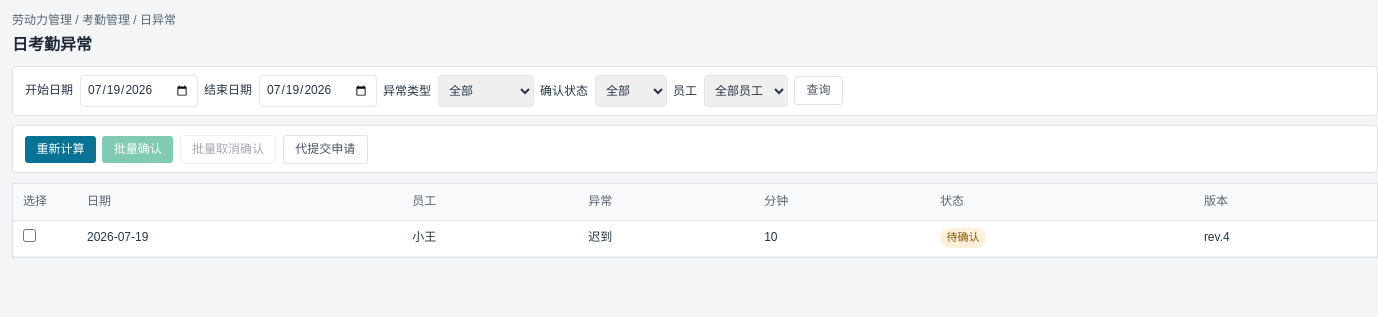
Test: DailyAttendancePage revision transitions › forces a refresh after a stale 409 and replaces the stale revision
Check: the text "小王" is shown, box x1=402 y1=220 x2=578 y2=256
What coordinates should you click on to do the following:
click the checkbox named "选择 小王 迟到"
I would click on:
 (30, 235)
Its box is x1=23 y1=229 x2=36 y2=242.
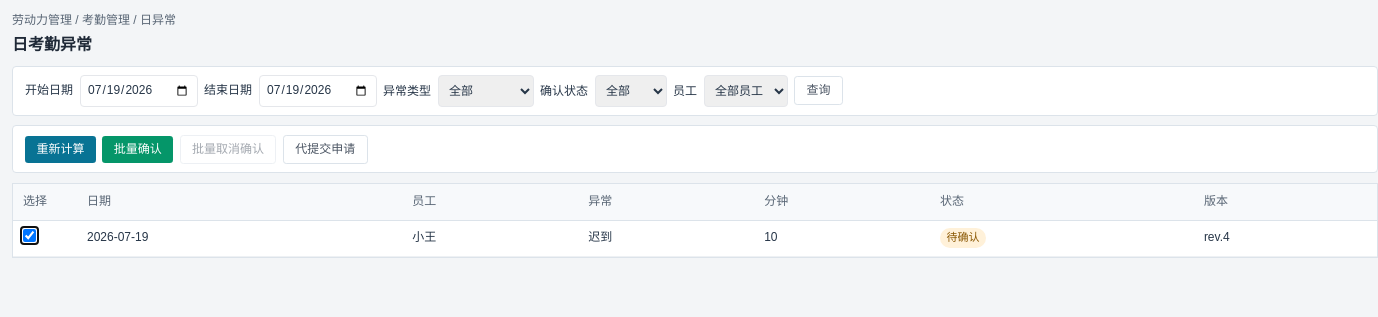
What coordinates should you click on to do the following:
click the button "批量确认"
I would click on:
 (138, 149)
Its box is x1=102 y1=136 x2=173 y2=163.
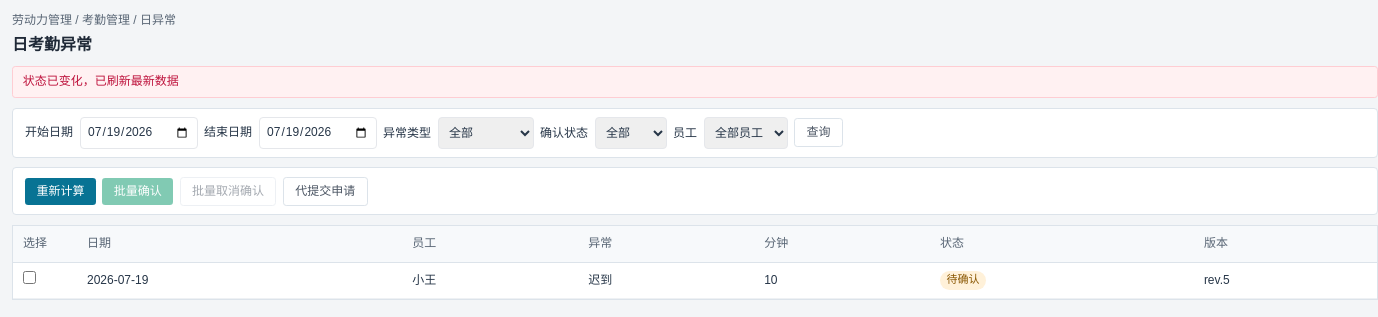
Check: the message reads "状态已变化，已刷新最新数据", box x1=23 y1=74 x2=179 y2=88
Check: the text "rev.5" is shown, box x1=1194 y1=262 x2=1377 y2=298
